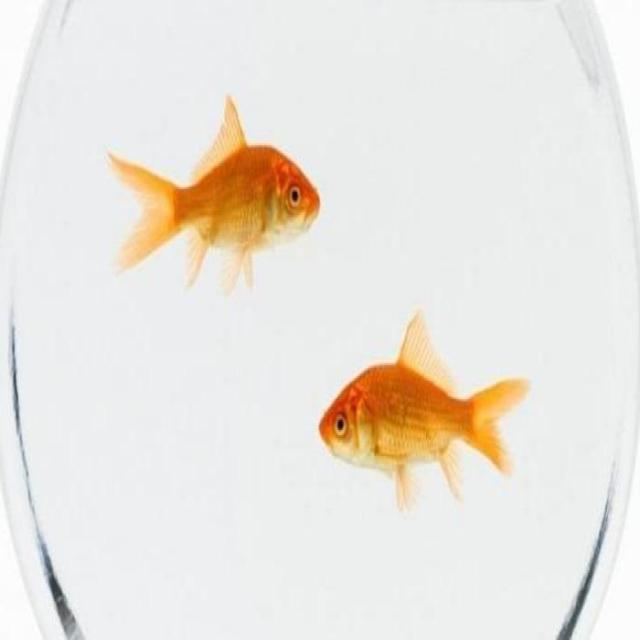GoldFish: (100, 84, 322, 291), (317, 315, 534, 514)
